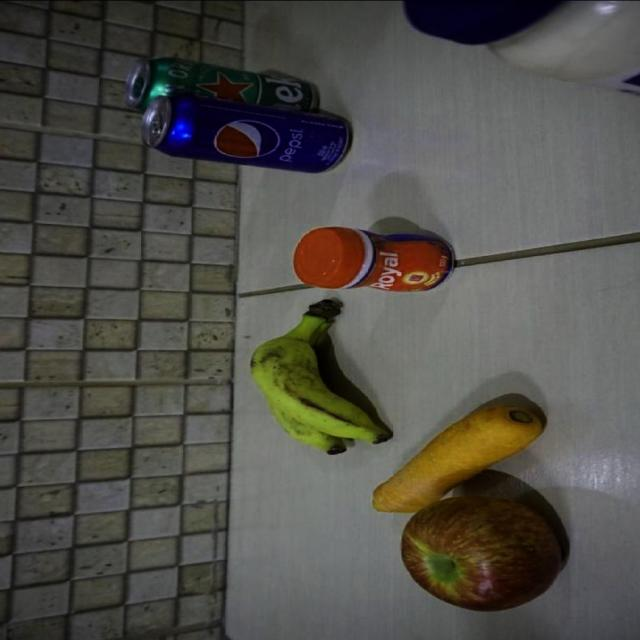Apple: (400, 494, 568, 612)
Banana: (246, 297, 392, 454)
BeerCan: (122, 55, 323, 116)
Carrot: (371, 403, 548, 514)
Mayonnaise: (401, 0, 639, 108)
SodaCan: (139, 93, 350, 174)
Yeast: (293, 226, 457, 292)
